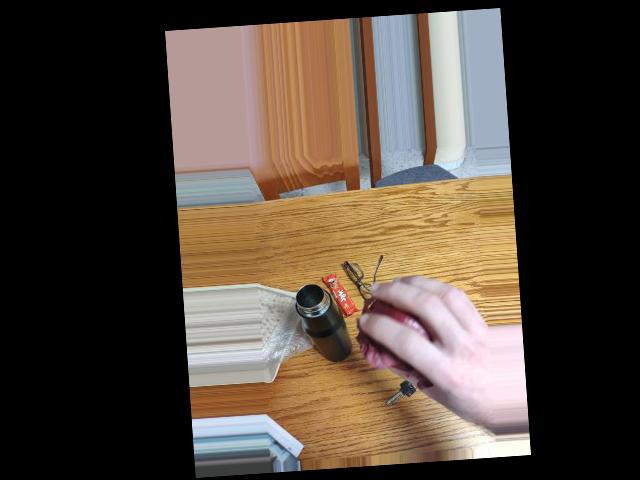onion: (370, 289, 444, 385)
